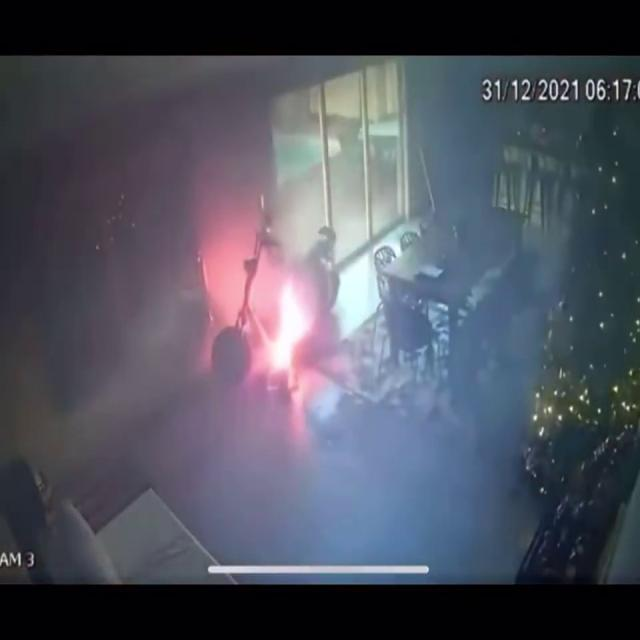Fire: (0, 58, 288, 526), (256, 256, 318, 382)
